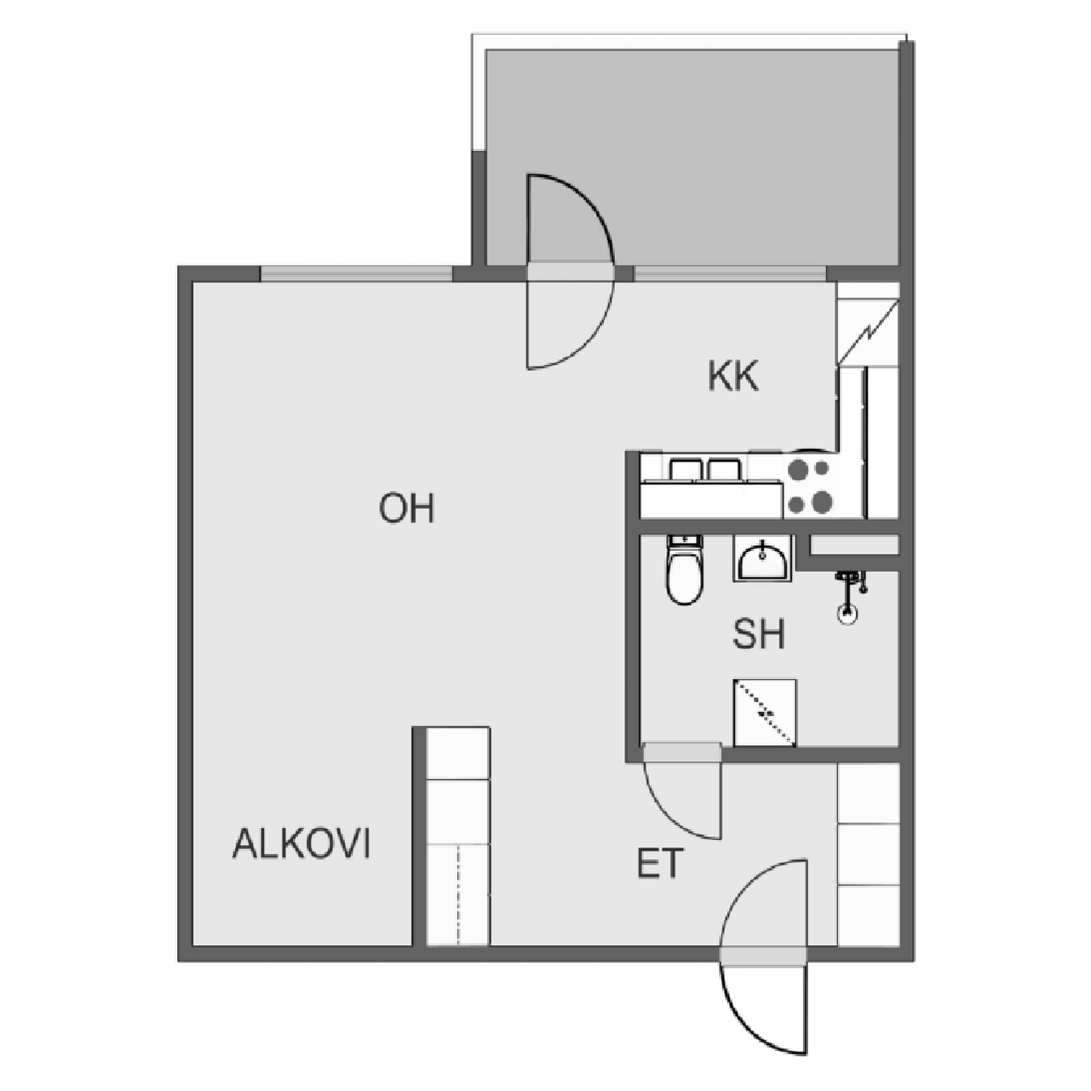wall: (900, 41, 914, 960), (177, 944, 914, 960), (177, 265, 192, 960), (487, 265, 914, 281), (177, 265, 487, 281), (625, 747, 914, 762), (625, 519, 914, 534), (625, 453, 639, 761), (412, 725, 426, 960), (472, 151, 487, 281)
